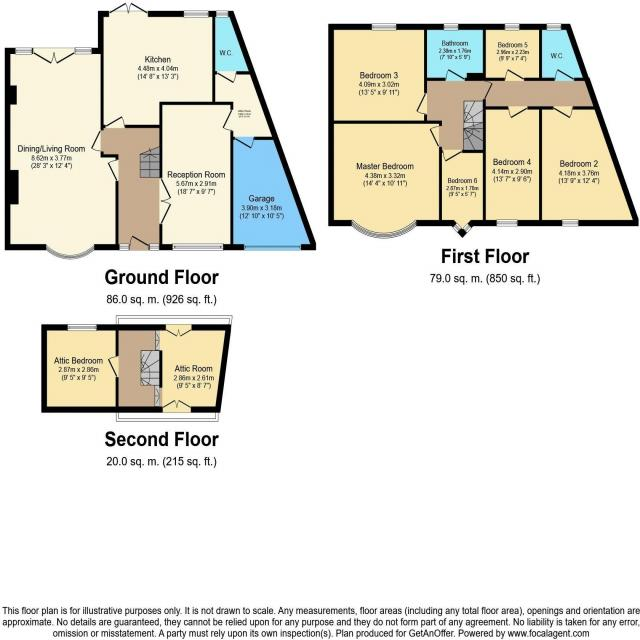DOOR: (105, 354, 120, 379), (551, 106, 574, 119), (107, 159, 119, 183), (441, 148, 464, 160), (215, 70, 236, 83), (508, 107, 530, 119), (105, 116, 126, 128), (504, 69, 525, 81), (444, 69, 465, 81), (417, 91, 427, 116), (222, 110, 233, 132), (91, 131, 102, 152), (430, 125, 440, 147), (234, 137, 254, 147)
DOUBLE DOOR: (32, 46, 77, 67), (107, 1, 151, 17), (164, 324, 193, 338)
ROOM: (5, 44, 119, 260), (99, 3, 216, 129), (328, 120, 443, 240), (539, 106, 639, 227), (328, 24, 440, 124), (159, 102, 234, 251), (483, 106, 543, 227), (41, 323, 120, 413), (438, 148, 486, 238), (483, 23, 541, 81)
WINDOW: (350, 218, 418, 240), (45, 244, 94, 260), (171, 244, 225, 252), (67, 322, 98, 332), (371, 22, 397, 31), (15, 44, 34, 55), (495, 218, 518, 227), (500, 22, 520, 32), (562, 216, 580, 227), (74, 46, 93, 56), (450, 221, 463, 235), (442, 22, 459, 31), (184, 11, 209, 17), (462, 221, 473, 234), (546, 23, 562, 31), (118, 244, 130, 251), (216, 11, 229, 17), (148, 245, 160, 251)
